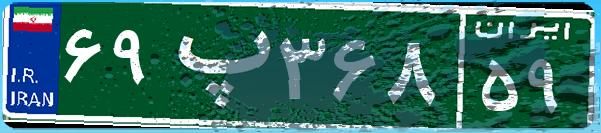3: (273, 28, 330, 110)
5: (475, 38, 525, 113)
6: (330, 28, 385, 110), (57, 26, 110, 107)
8: (385, 28, 445, 110)
9: (110, 28, 158, 105), (525, 38, 570, 115)
پ: (158, 15, 273, 115)
